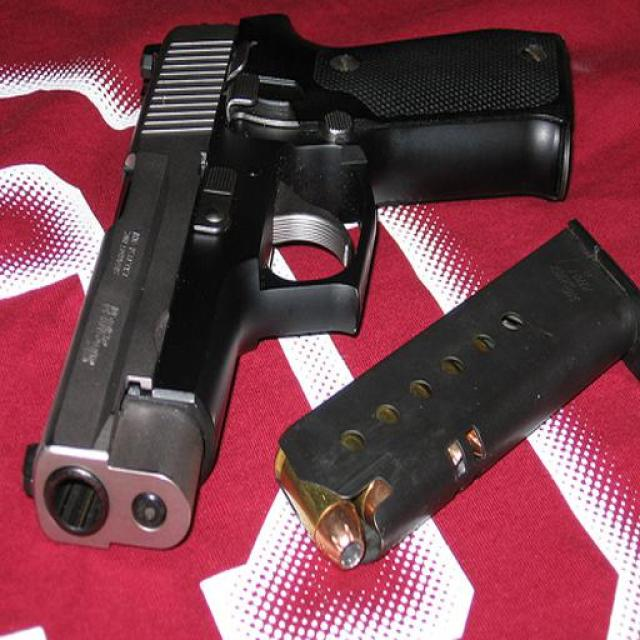pistol: (23, 11, 571, 547)
